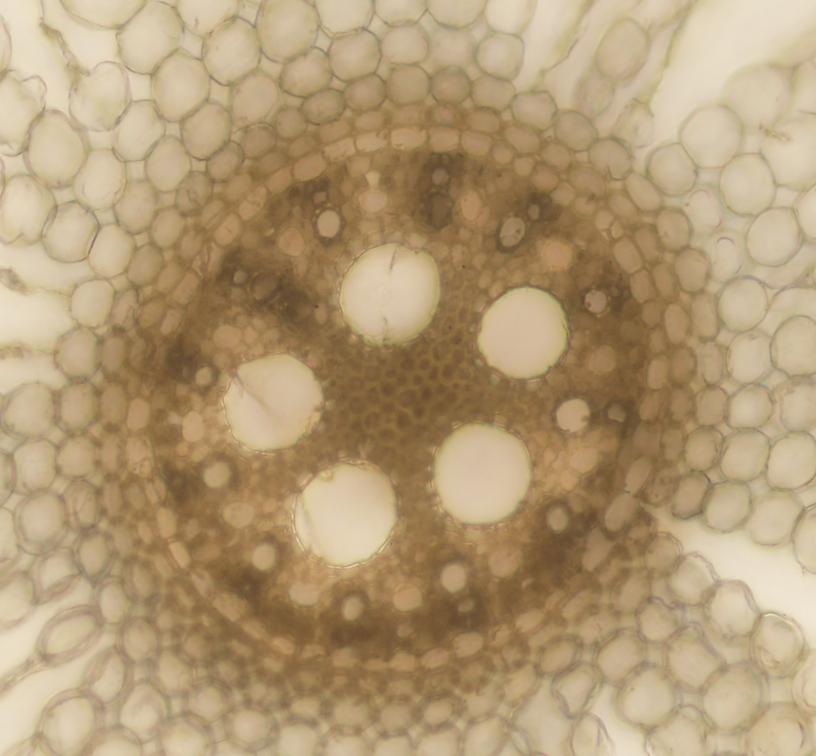lm: (293, 457, 398, 564), (433, 421, 532, 526), (222, 352, 324, 452), (338, 244, 439, 343), (476, 283, 570, 380)
